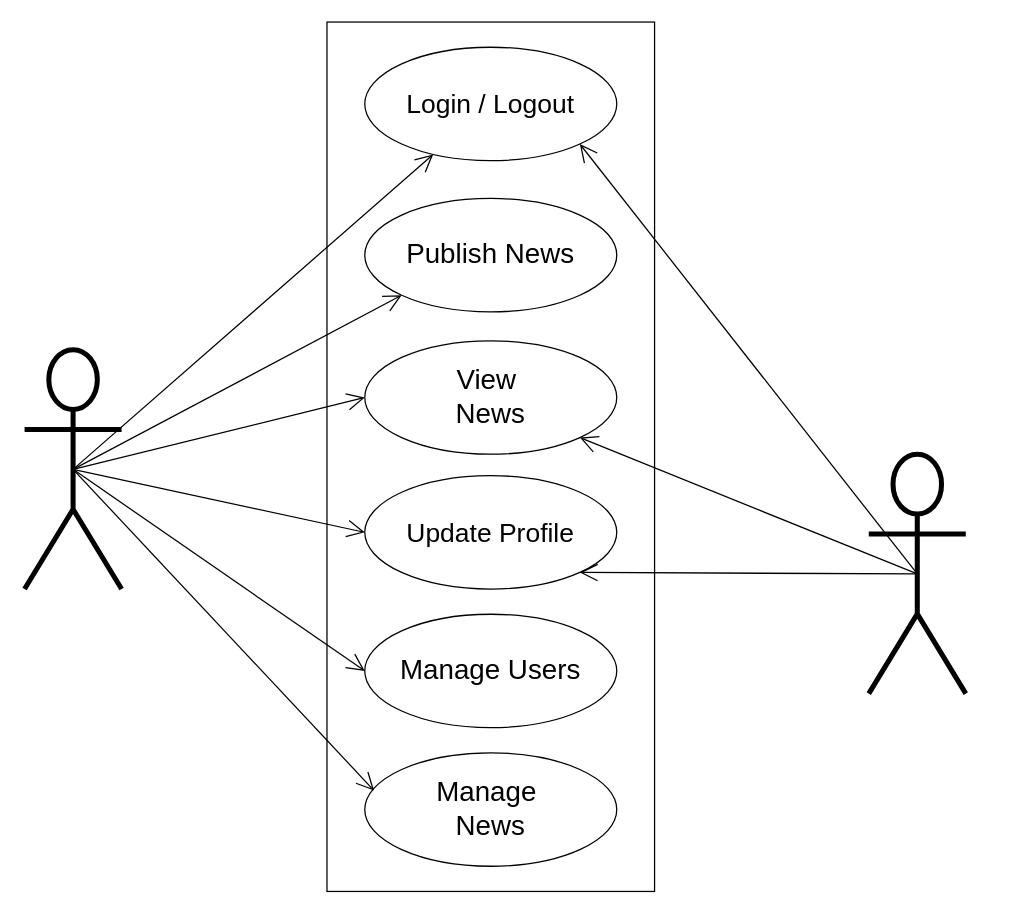
This 1024x914 diagram has some shape labels left out. The centre of each missing label's shape, as x and y in pixels:
"Admin" goes at [72,468].
"User (student)" goes at [917,573].
